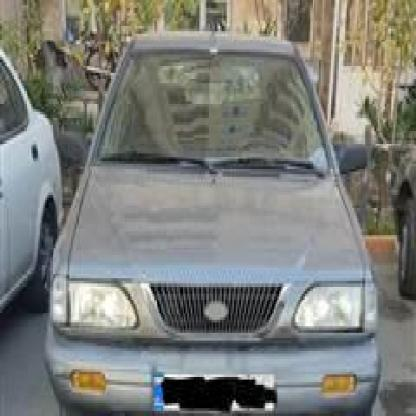Car: (47, 8, 385, 416), (0, 18, 62, 322), (391, 140, 416, 319)
